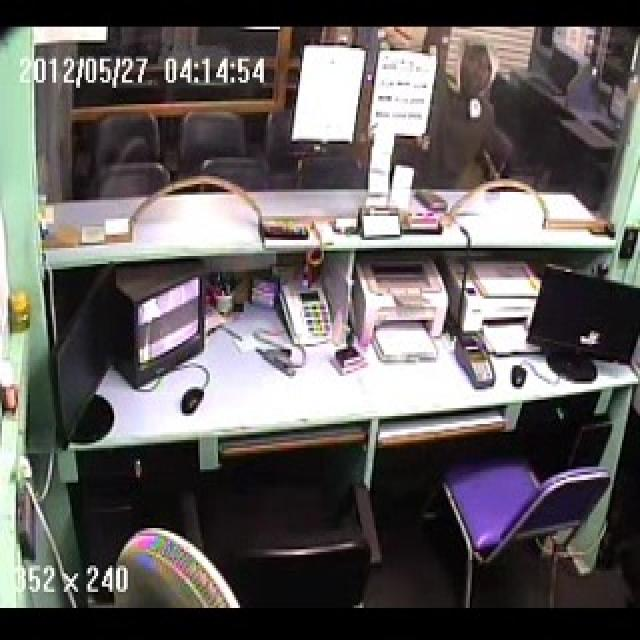thief: (401, 35, 520, 222)
